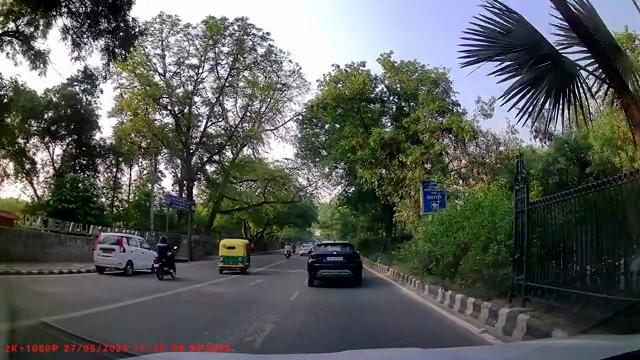motorcycle_with_helmet: (151, 234, 179, 281)
